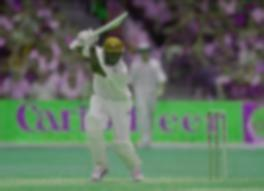batsman: (69, 2, 155, 191)
